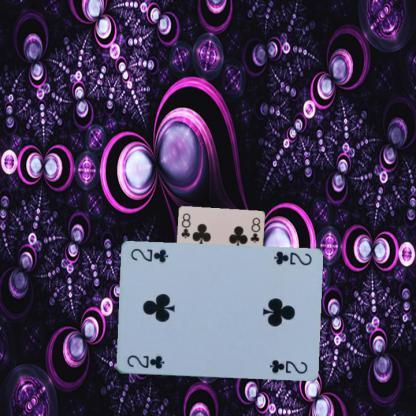2c: (271, 249, 313, 267), (124, 352, 165, 370)
8c: (178, 211, 192, 240)
